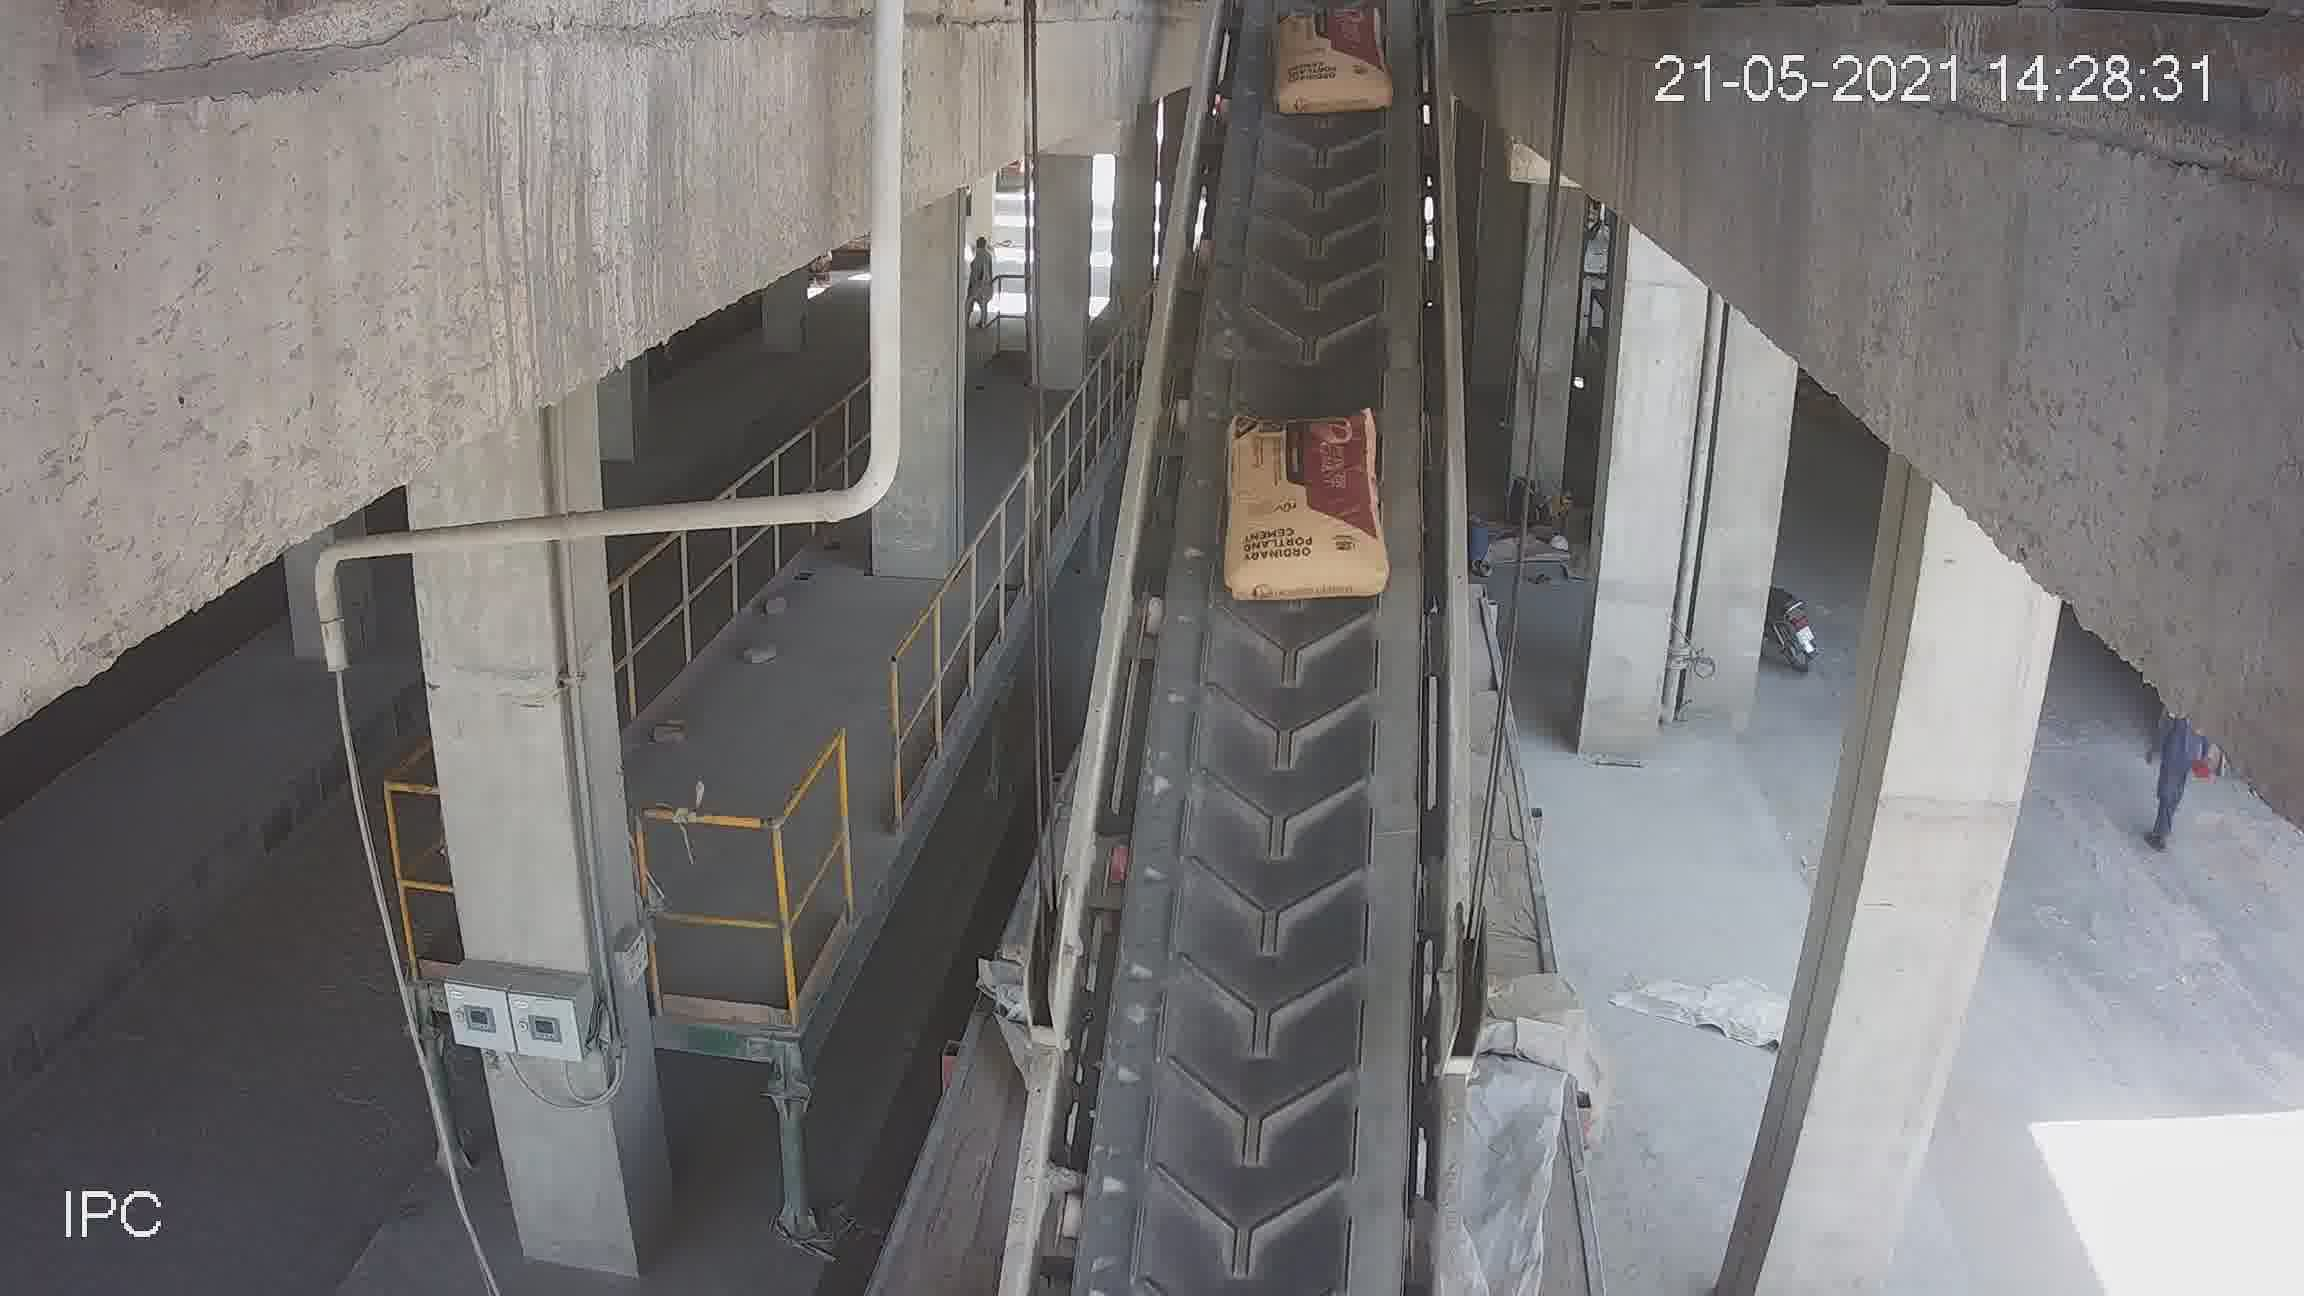bag: (1234, 411, 1381, 608), (1277, 17, 1378, 104)
belt: (1041, 32, 1464, 1256)
